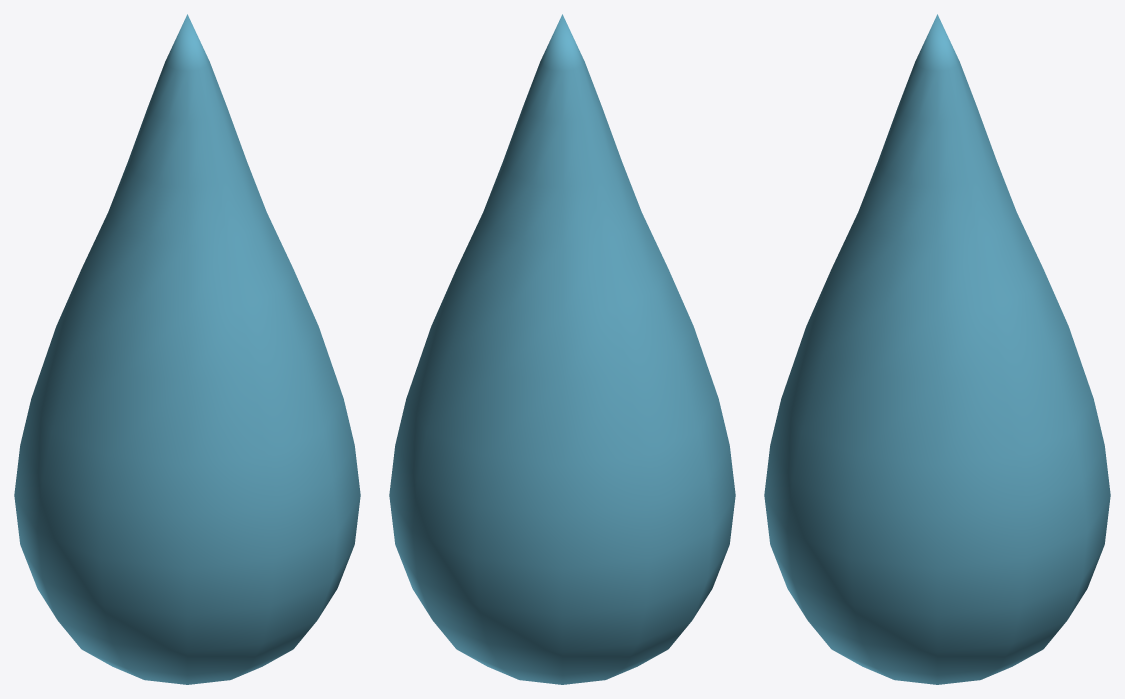
File: WaterElement.fbx
The picture shows the model from 3 angles, left to right: view 1: azimuth 30°, elevation 25°; view 2: azimuth 150°, elevation 25°; view 3: azimuth 270°, elevation 25°; orthographic projection.
Parts seen in each view (by area): view 1: pSphere1; view 2: pSphere1; view 3: pSphere1.
Part boxes in pixels (bbox=[...]): pSphere1: bbox=[14, 14, 360, 684]; pSphere1: bbox=[389, 14, 735, 684]; pSphere1: bbox=[764, 14, 1110, 684].
Size of the model in its own units: 30 by 62.63 by 30.
